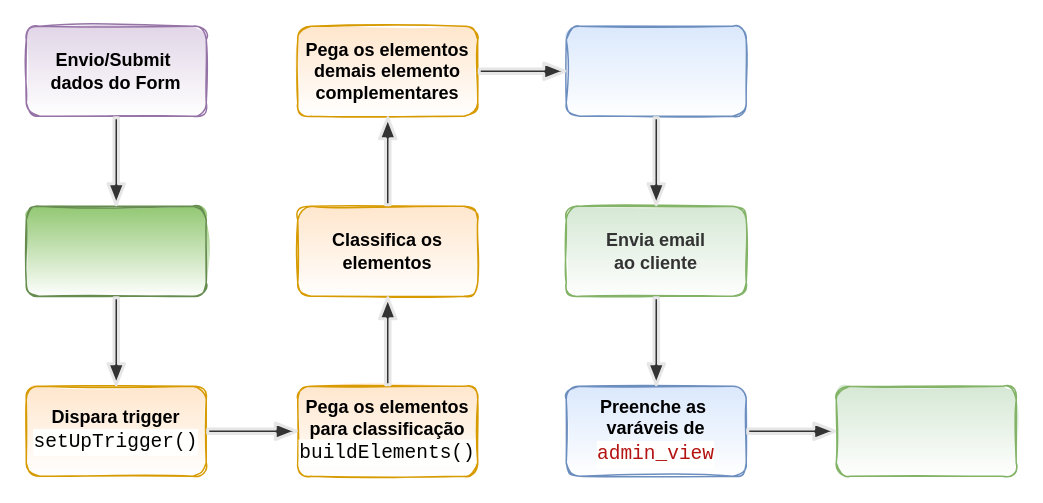
This 1043x503 diagram has some shape labels left out. Here are the shapes that lost their labels. From the top down, the centre of each, then its label:
At (655,70): "Preenche as variáveis de client_view".
At (115,250): "Planilha recebe os dados".
At (925,430): "Envia email ao administrador".
